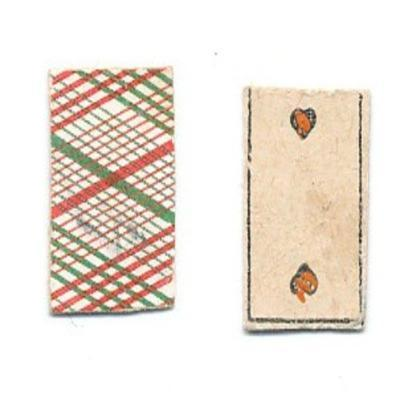graphics: (241, 86, 372, 337), (47, 64, 176, 317)
